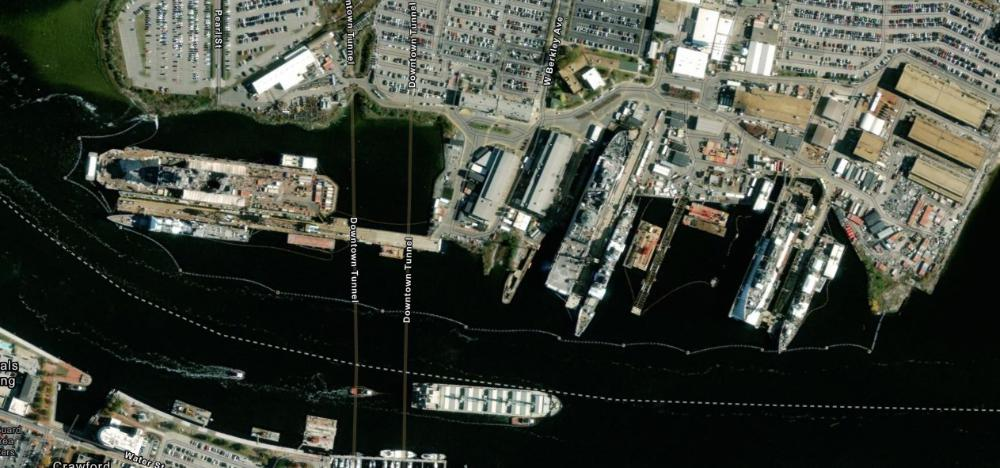cruiser: (565, 202, 639, 337), (102, 209, 256, 247)
supply: (544, 128, 629, 297)
